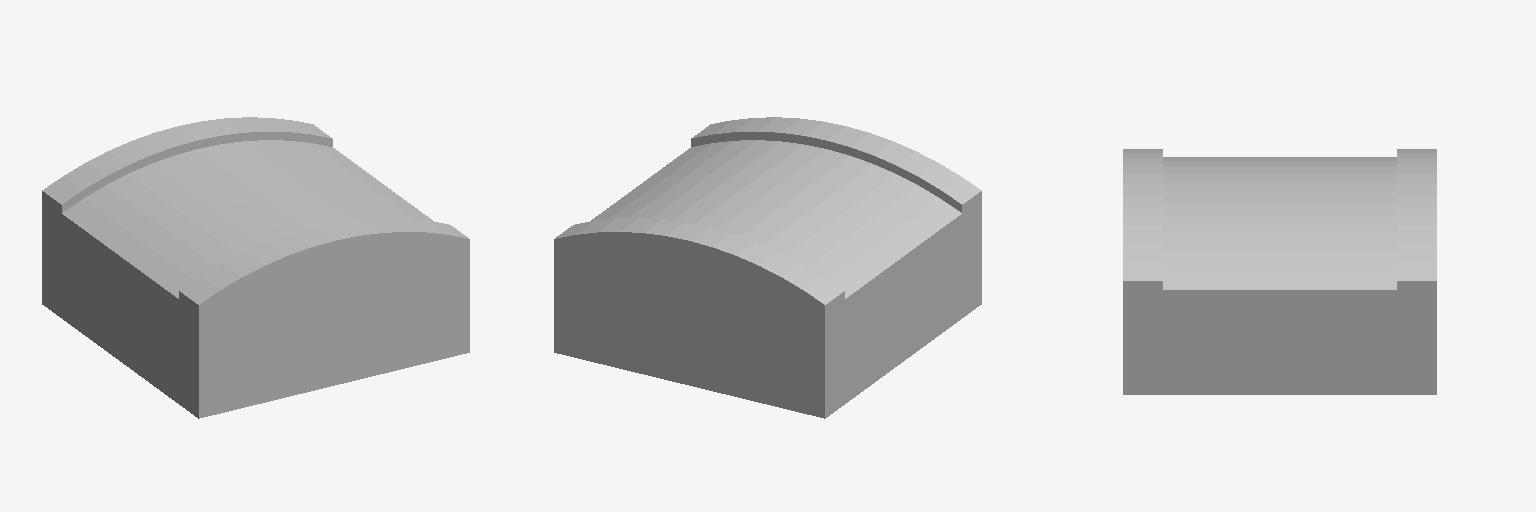
The model's file is tile_082.obj.
The picture shows the model from 3 angles: view 1: azimuth 30°, elevation 25°; view 2: azimuth 150°, elevation 25°; view 3: azimuth 270°, elevation 25°; orthographic projection.
Visible parts, largest first — view 1: tile_082; view 2: tile_082; view 3: tile_082.
Part boxes in pixels (x1,y1,x2,y2): tile_082: (42,117,469,418); tile_082: (554,117,981,418); tile_082: (1123,149,1436,394).
Size of the model in its own units: 1 by 0.51 by 1.